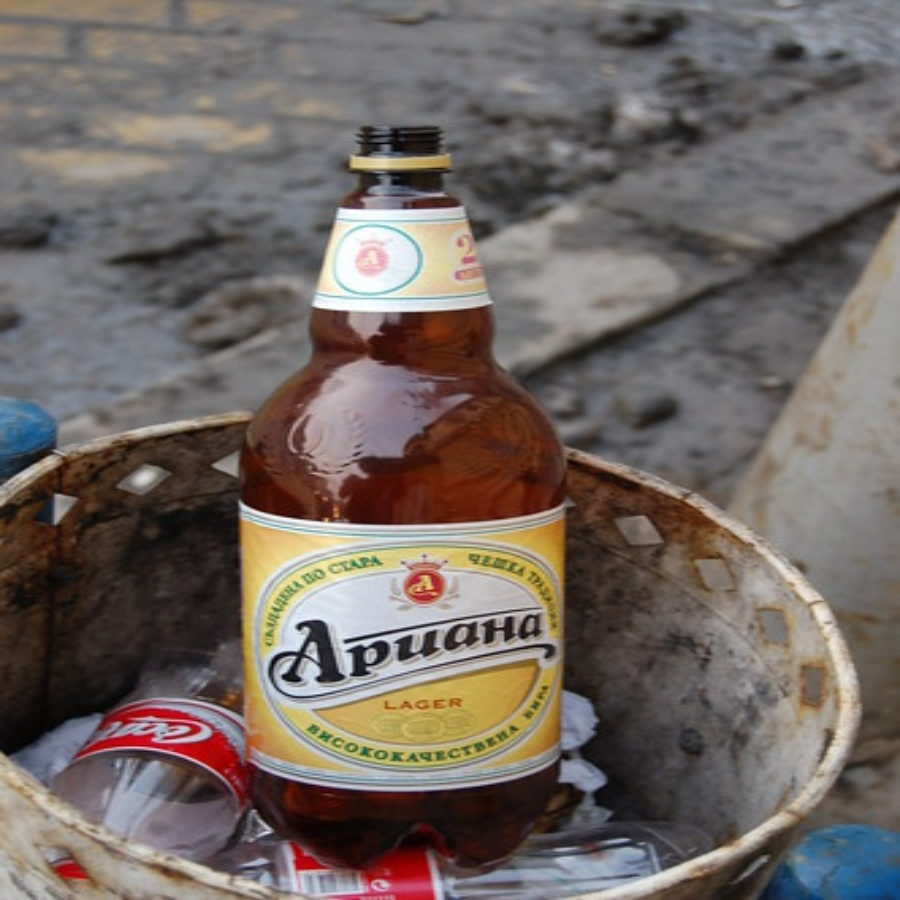beer: (213, 100, 563, 861)
